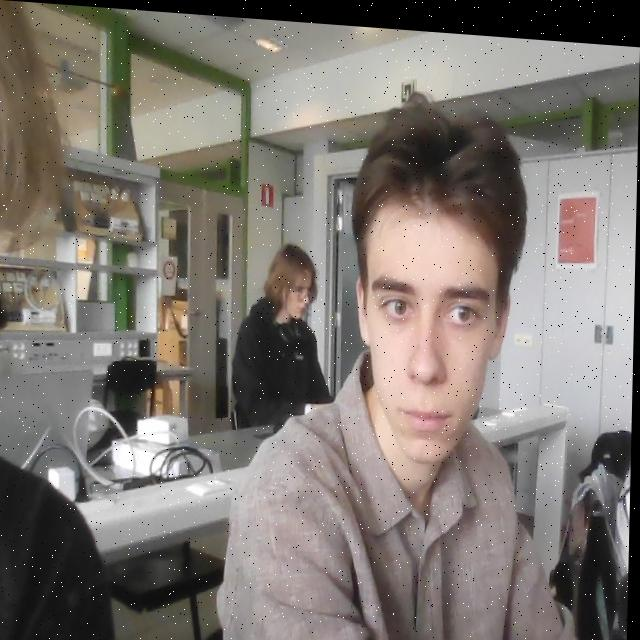opened_eye: (377, 294, 422, 323), (443, 300, 485, 328)
